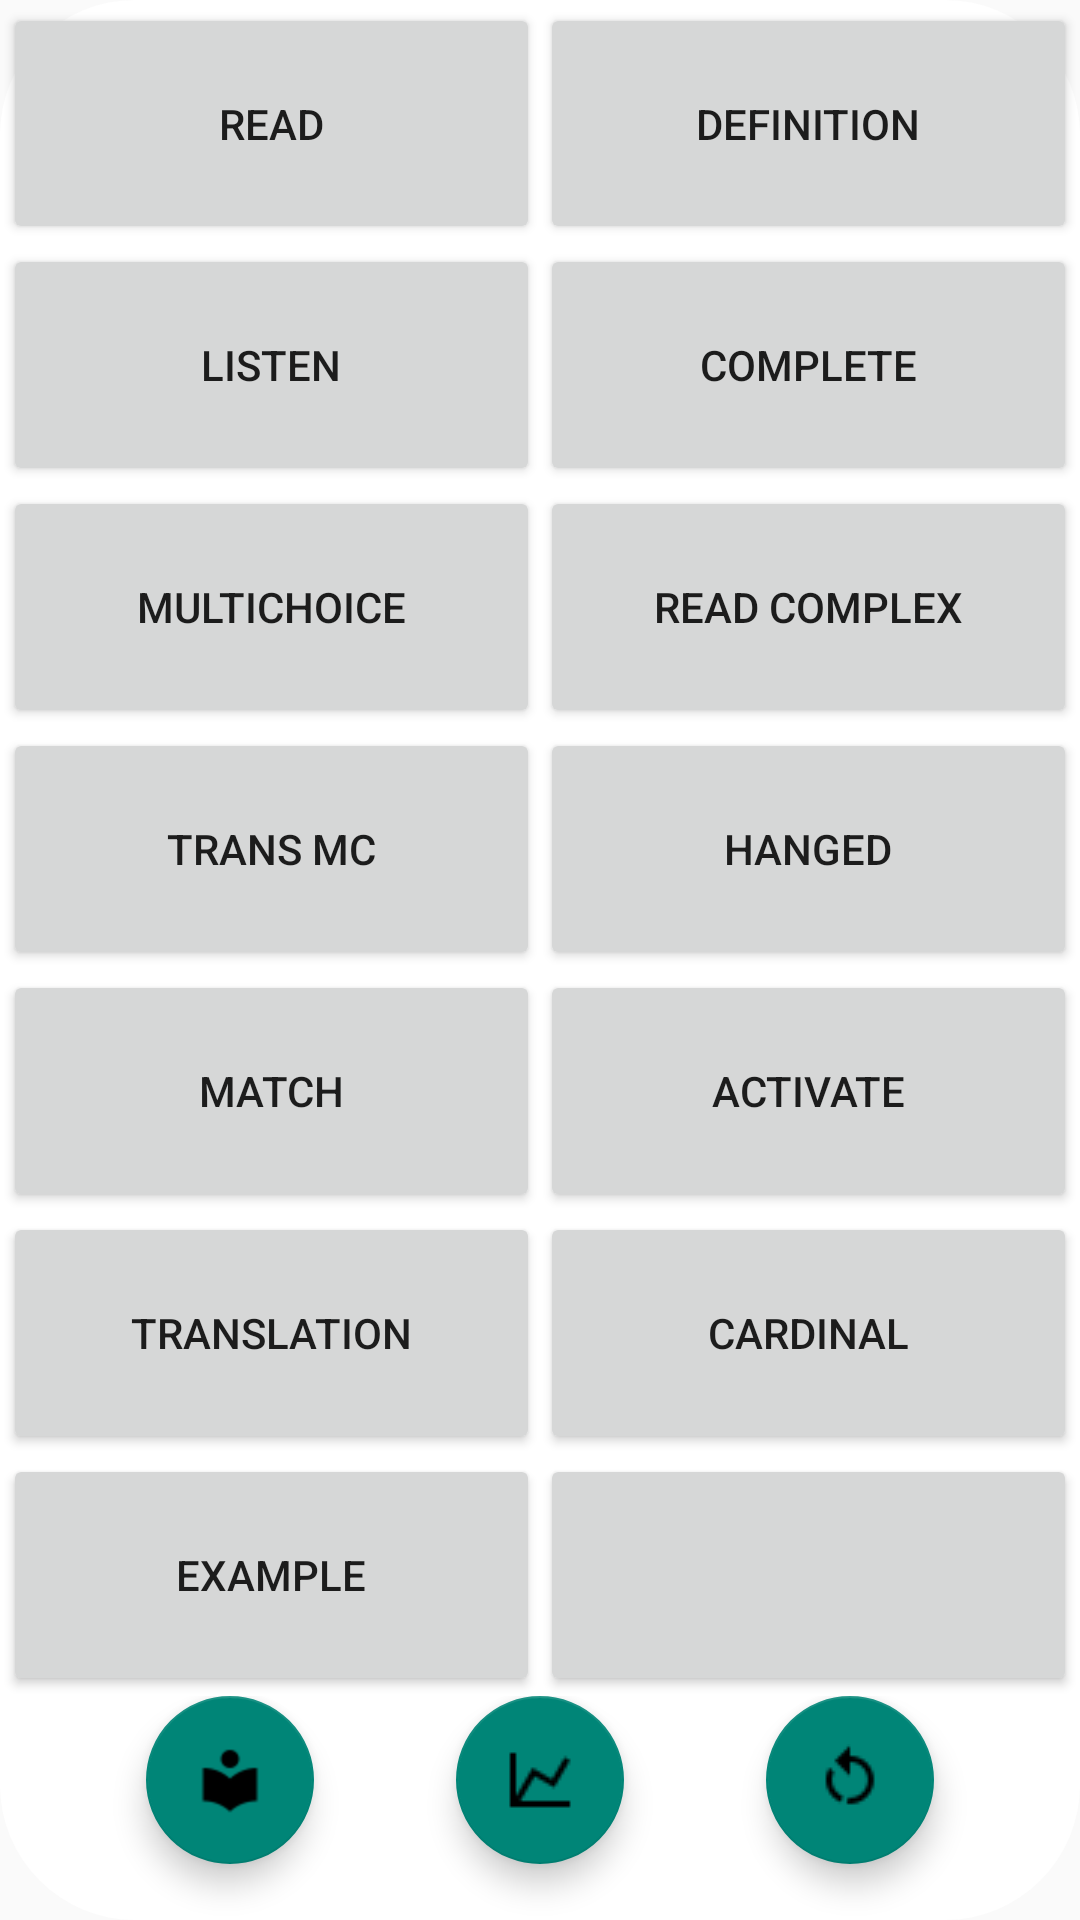

Point at icon controls on the screen. Image size 1080px×1920px, points as (x,y).
chart: (540,1780)
library: (230,1780)
restart: (850,1780)
